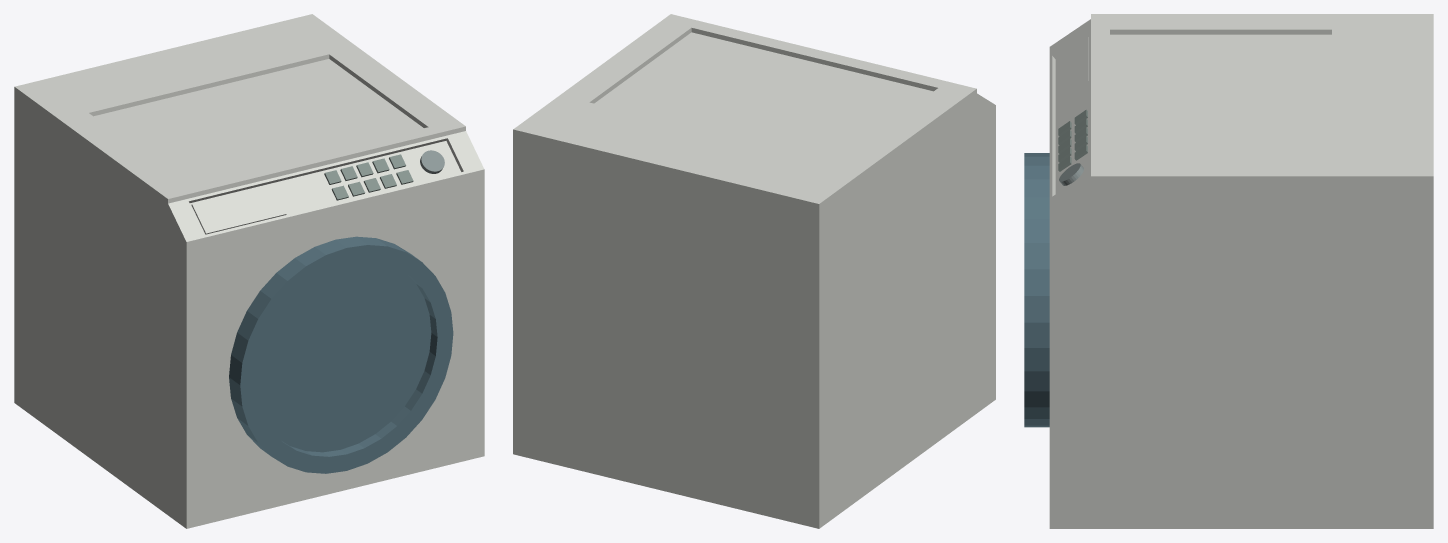
Rendered from Washer.fbx.
3 views of the same model, side by side, from view 1: azimuth 30°, elevation 25°; view 2: azimuth 150°, elevation 25°; view 3: azimuth 270°, elevation 25° (orthographic). The views are drawn at different scales.
Parts seen in each view (by area): view 1: Cabinet, DrumDoor; view 2: Cabinet; view 3: Cabinet, DrumDoor.
Boxes of the visible parts, <box> form: Cabinet: <box>14,14,484,528</box>; DrumDoor: <box>229,236,453,473</box>; Cabinet: <box>513,14,995,528</box>; Cabinet: <box>1049,14,1433,528</box>; DrumDoor: <box>1024,153,1049,427</box>.
Bounding box in the file's own units: 84.78 × 86 × 90.36.
